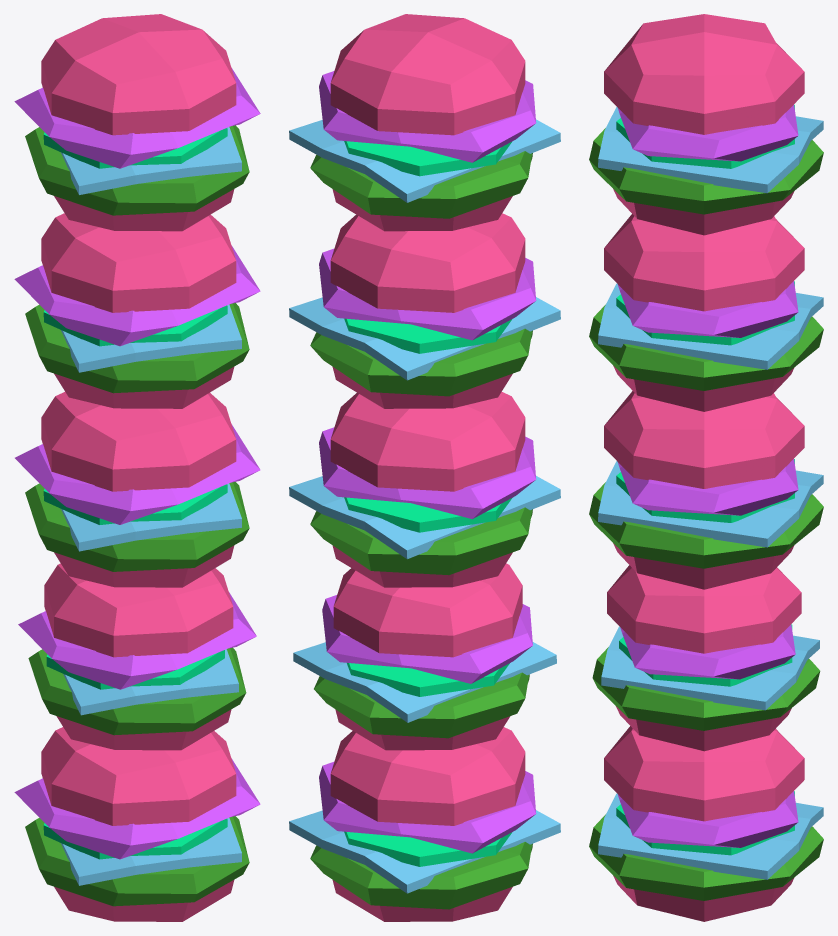
Rendered from 027_Burger.fbx.
3 renders of one model, left to right at view 1: azimuth 30°, elevation 25°; view 2: azimuth 150°, elevation 25°; view 3: azimuth 270°, elevation 25°, orthographic.
Visible parts, largest first — view 1: burger1; view 2: burger1; view 3: burger1.
Part boxes in pixels (box(x1,y1,x2,y2)): burger1: box(14, 14, 260, 921); burger1: box(289, 14, 560, 921); burger1: box(589, 14, 823, 921).
Bounding box in the file's own units: 44.05 × 177 × 43.51.
